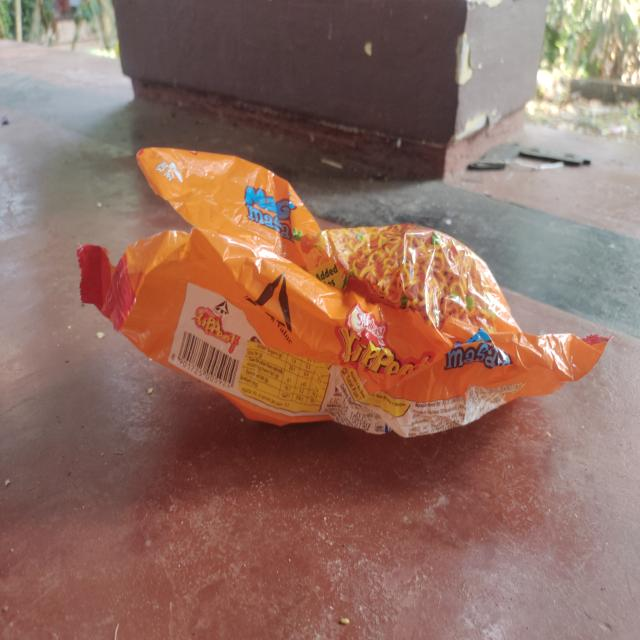plastic: (74, 139, 618, 442)
